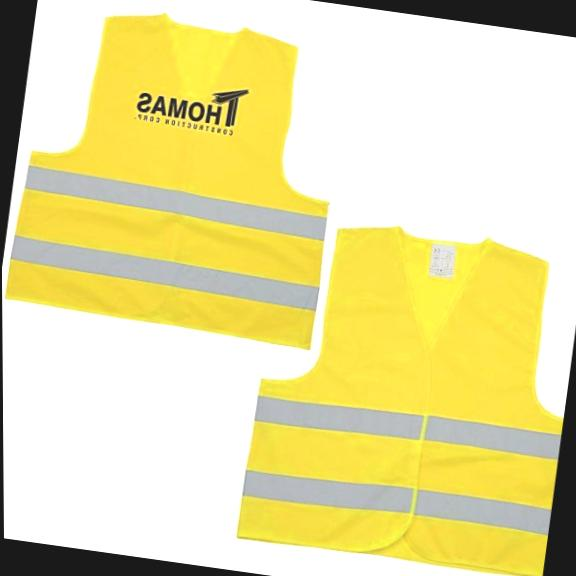safety_vest: (232, 203, 576, 576), (0, 0, 357, 354)
